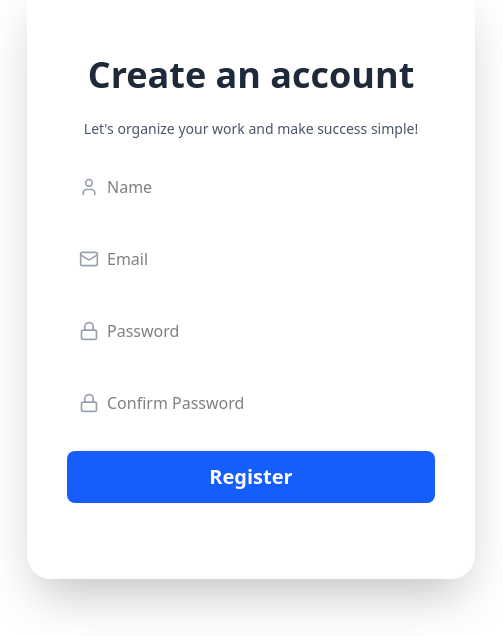
it: Register Component › shows validation errors when fields are empty
Click the button "Register". click: (251, 477)
box: [67,451,435,503]
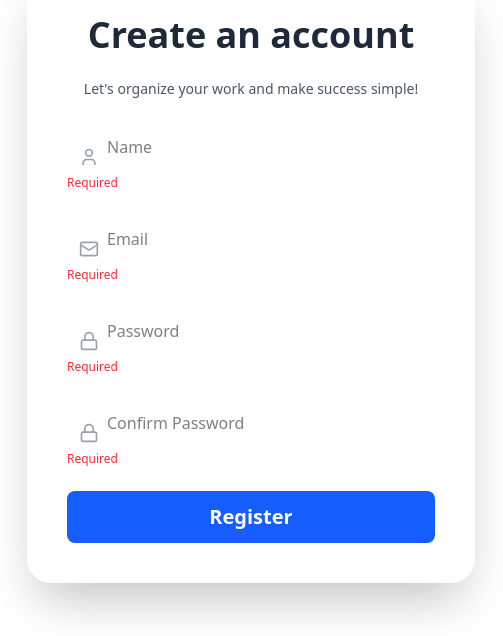
Now the text "Required" is shown 4 times, box [67,174,118,191]; [67,266,118,283]; [67,358,118,375]; [67,450,118,467]
